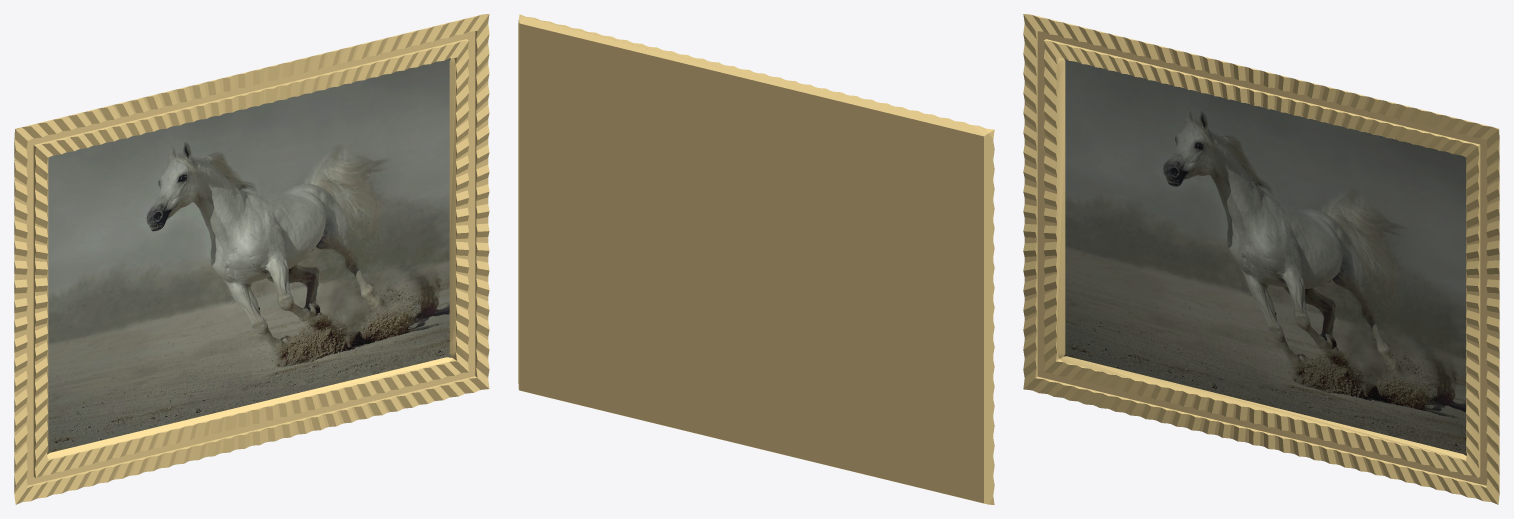
File: Frame_H.glb
3 views of the same model, side by side, from view 1: azimuth 30°, elevation 25°; view 2: azimuth 150°, elevation 25°; view 3: azimuth 330°, elevation 25° (orthographic).
Visible parts, largest first — view 1: int2; view 2: int2; view 3: int2.
Part boxes in pixels (<box>): int2: <box>14,14,489,504</box>; int2: <box>518,14,994,504</box>; int2: <box>1023,14,1499,504</box>.
Bounding box in the file's own units: 0.1085 × 0.082 × 0.00228.
2 materials, 2 textured.
